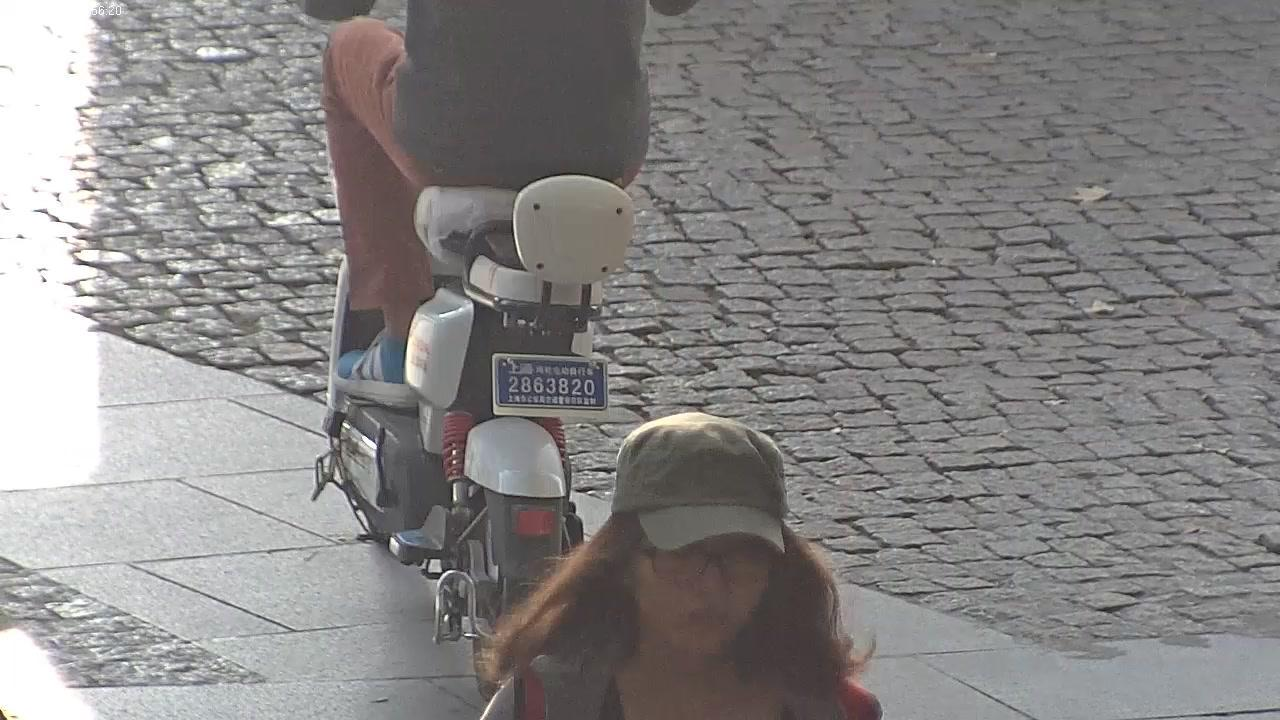face: (634, 536, 769, 652)
